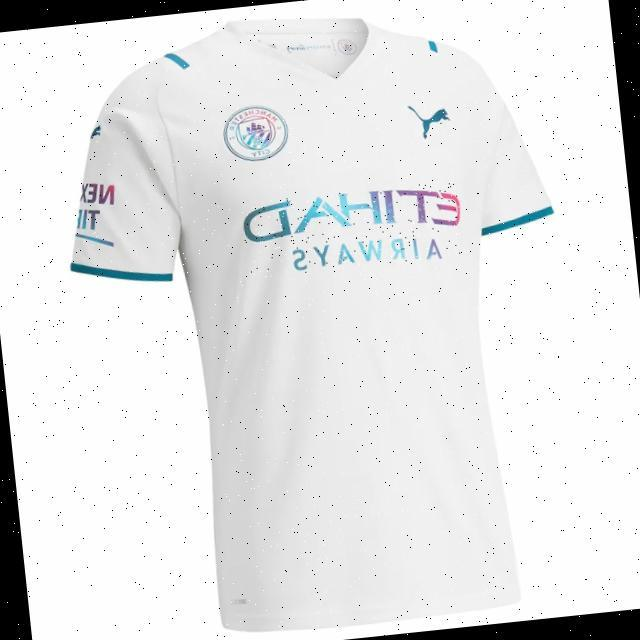Etihad Airways: (240, 180, 466, 280)
Puma: (406, 100, 453, 140), (88, 124, 103, 143)
